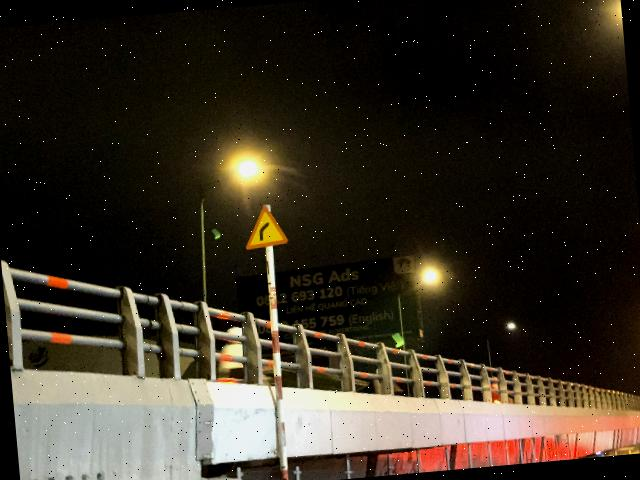cho-ngoat-nguy-hiem-ben-phai: (241, 202, 288, 250)
